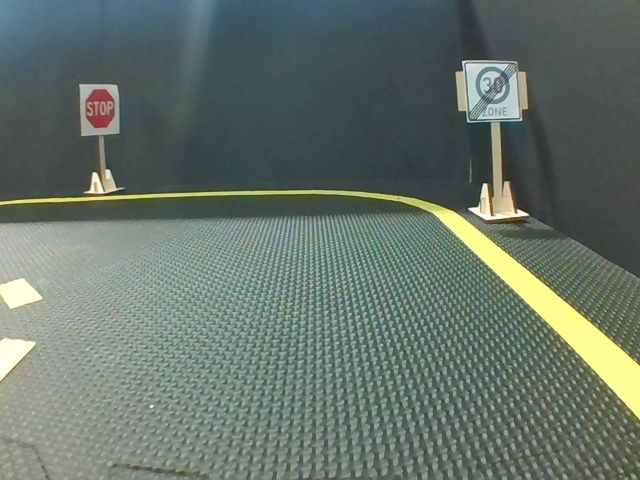no30: (464, 61, 519, 122)
stop: (80, 82, 120, 133)
